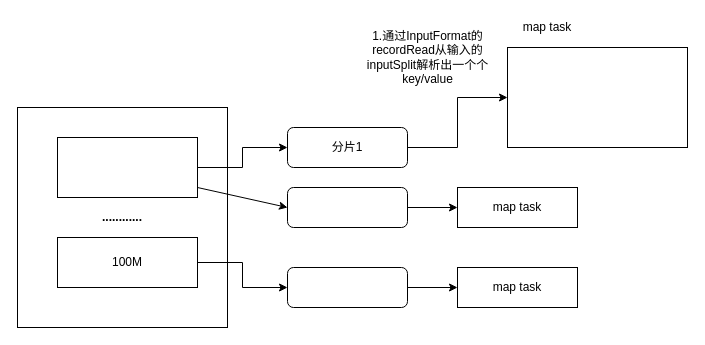
The diagram is 705 pixels wide and 345 high, and some of its shapes have lost their labels. The shapes that lost their labels are listed below. From the top down, each one's box as (x1, y1, x2, y2) in pixels, then its label:
(56, 136, 198, 198): 200M
(286, 186, 408, 228): 分片2
(286, 266, 408, 308): 分片
